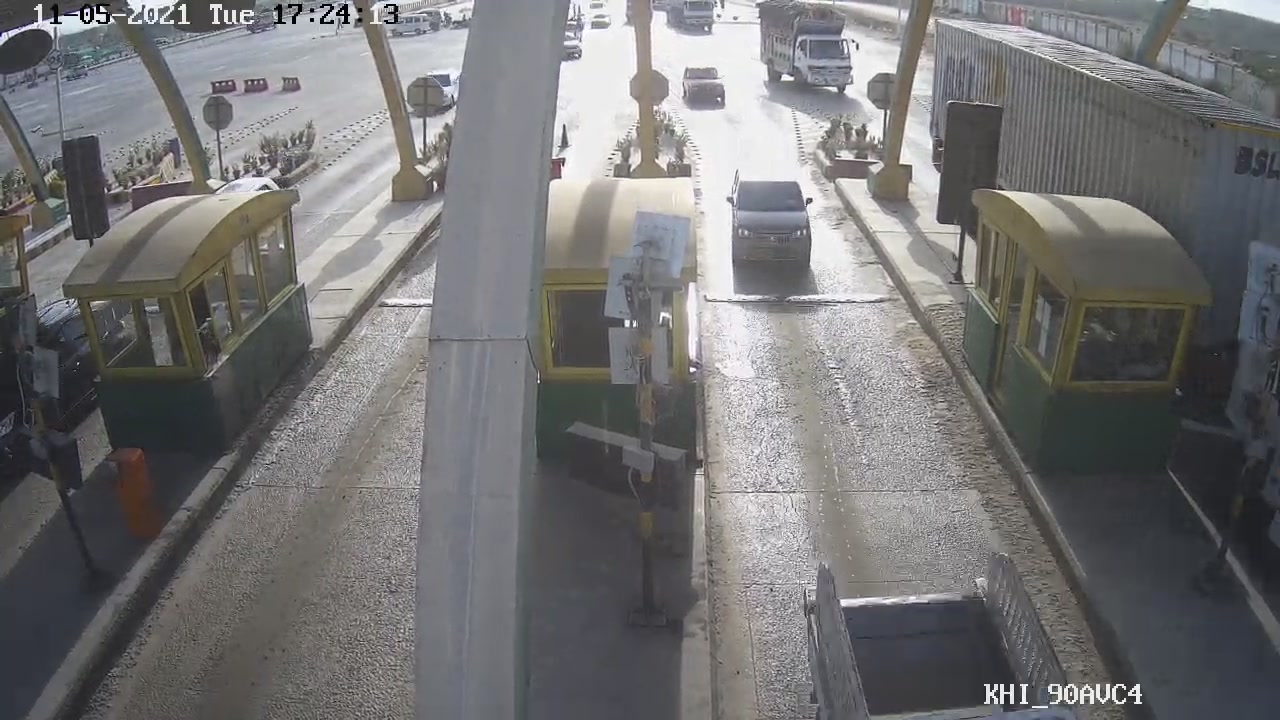F1: (712, 157, 823, 282)
